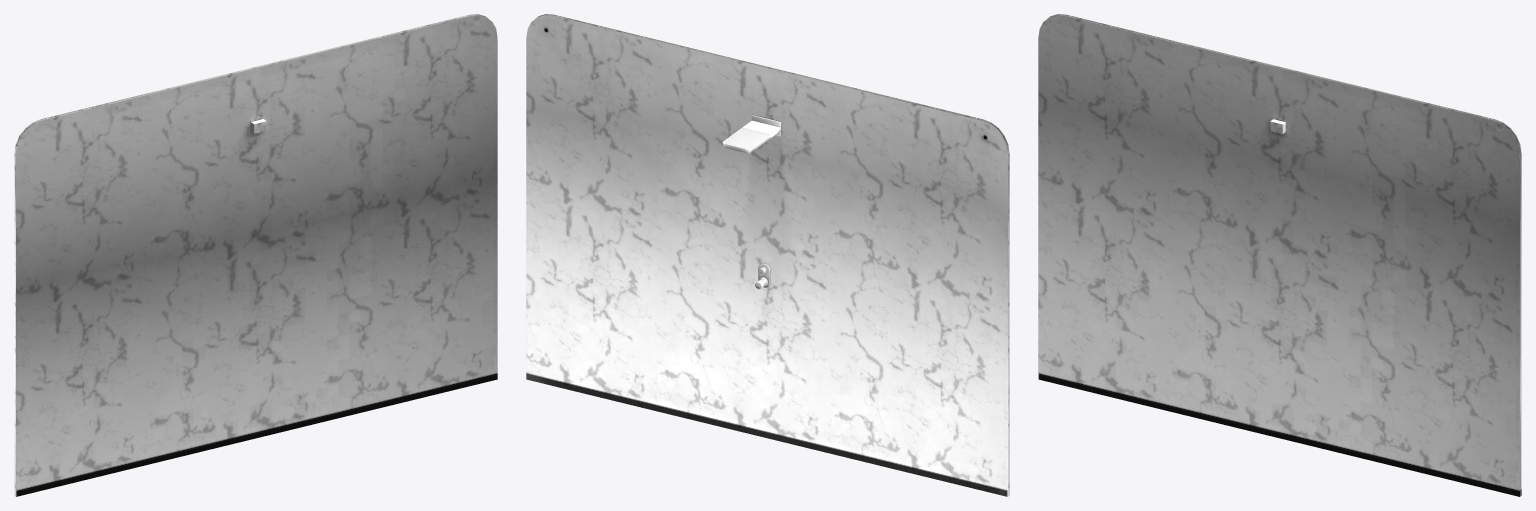
File: Cascade_Shower_FINAL_1.glb
3 views of the same model, side by side, from view 1: azimuth 30°, elevation 25°; view 2: azimuth 150°, elevation 25°; view 3: azimuth 330°, elevation 25° (orthographic).
Parts seen in each view (by area): view 1: Cascade_Shower_FINAL_1; view 2: Cascade_Shower_FINAL_1; view 3: Cascade_Shower_FINAL_1.
Part boxes in pixels (x1,y1,x2,y2): Cascade_Shower_FINAL_1: (14, 14, 497, 496); Cascade_Shower_FINAL_1: (526, 14, 1009, 496); Cascade_Shower_FINAL_1: (1038, 14, 1521, 496).
Bounding box in the file's own units: 2.77 × 2.03 × 0.3598.
1 material, 1 textured.
